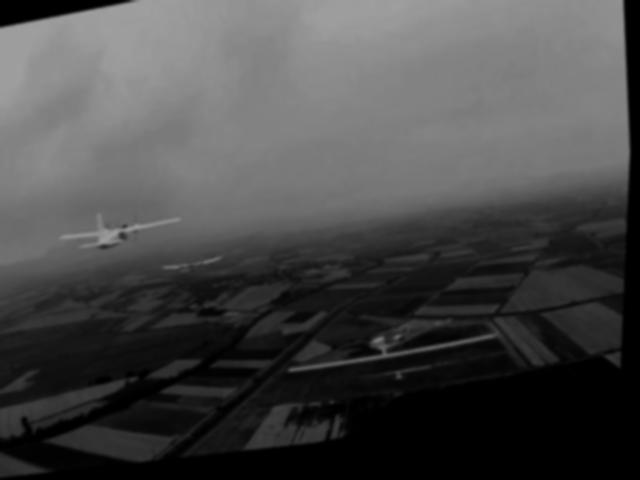hedef: (59, 190, 193, 273)
